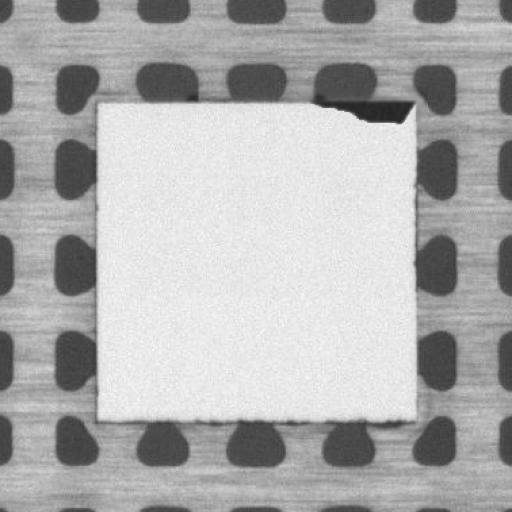DIE_BROKEN: (306, 93, 416, 123)
